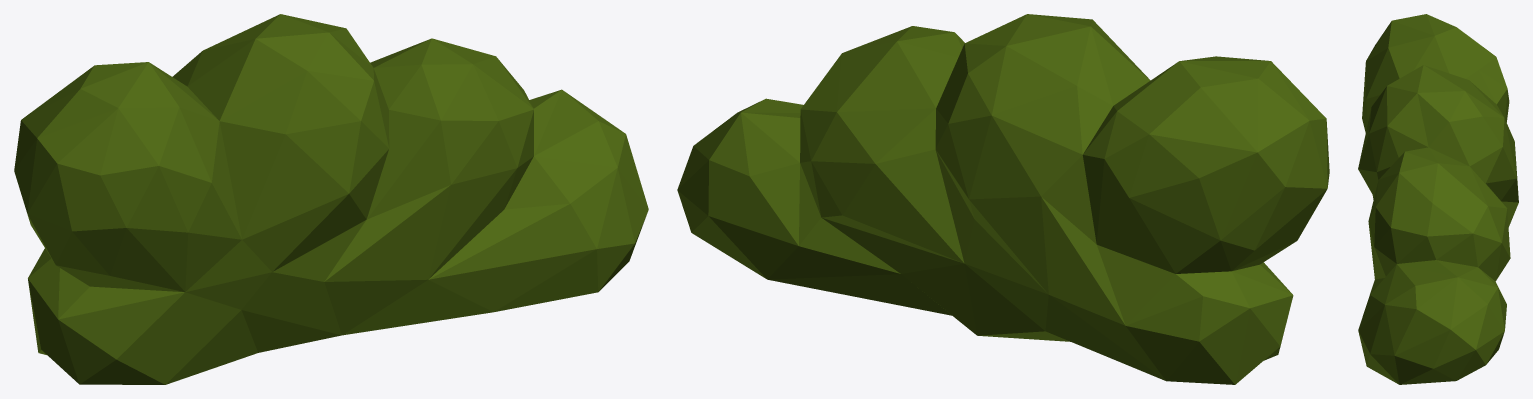
Rendered from TreesAndBushes_013.fbx.
The picture shows the model from 3 angles, left to right: view 1: azimuth 30°, elevation 25°; view 2: azimuth 150°, elevation 25°; view 3: azimuth 270°, elevation 25°; orthographic projection. The views are drawn at different scales.
Parts seen in each view (by area): view 1: TreesAndBushes_013; view 2: TreesAndBushes_013; view 3: TreesAndBushes_013.
Part boxes in pixels (x1,y1,x2,y2): TreesAndBushes_013: (14,14,648,384); TreesAndBushes_013: (677,14,1329,384); TreesAndBushes_013: (1358,14,1518,384).
Size of the model in its own units: 170 by 77.47 by 56.01.
